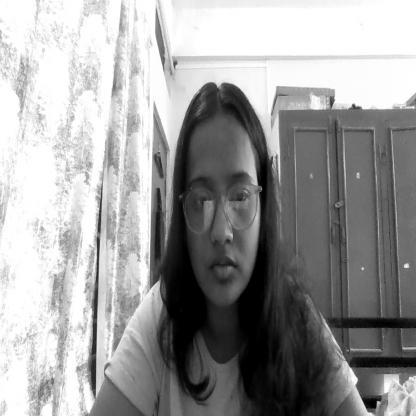Normal: (178, 105, 272, 312)
